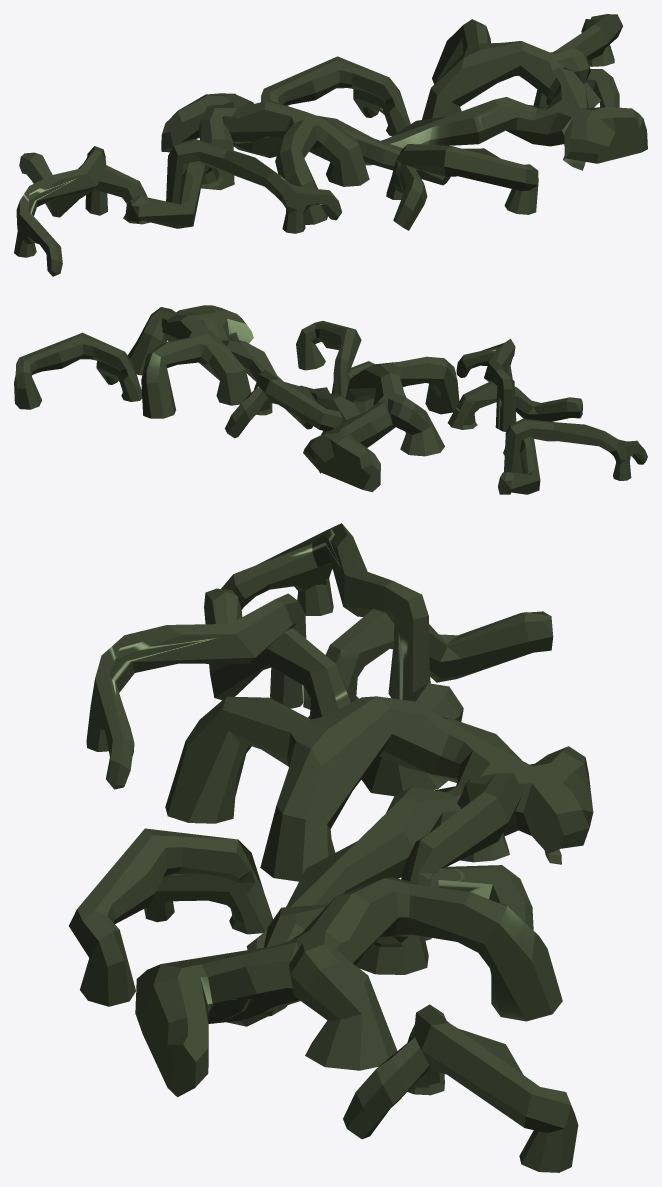
Rendered from EA_Swamp_Root_04c.glb.
3 views of the same model, one above another, from view 1: azimuth 30°, elevation 25°; view 2: azimuth 150°, elevation 25°; view 3: azimuth 270°, elevation 25° (orthographic). The views are drawn at different scales.
Parts seen in each view (by area): view 1: EA_Swamp_Root_04c; view 2: EA_Swamp_Root_04c; view 3: EA_Swamp_Root_04c.
Boxes of the visible parts, x1=… form: EA_Swamp_Root_04c: x1=14, y1=14, x2=647, y2=276; EA_Swamp_Root_04c: x1=14, y1=305, x2=647, y2=494; EA_Swamp_Root_04c: x1=69, y1=523, x2=593, y2=1172.
Size of the model in its own units: 3.75 by 0.5635 by 1.52.
Materials: 1 (1 with a texture image).
